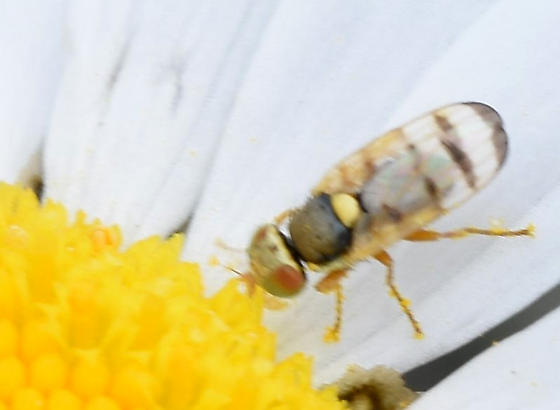Chloropidae: (214, 102, 537, 343)
